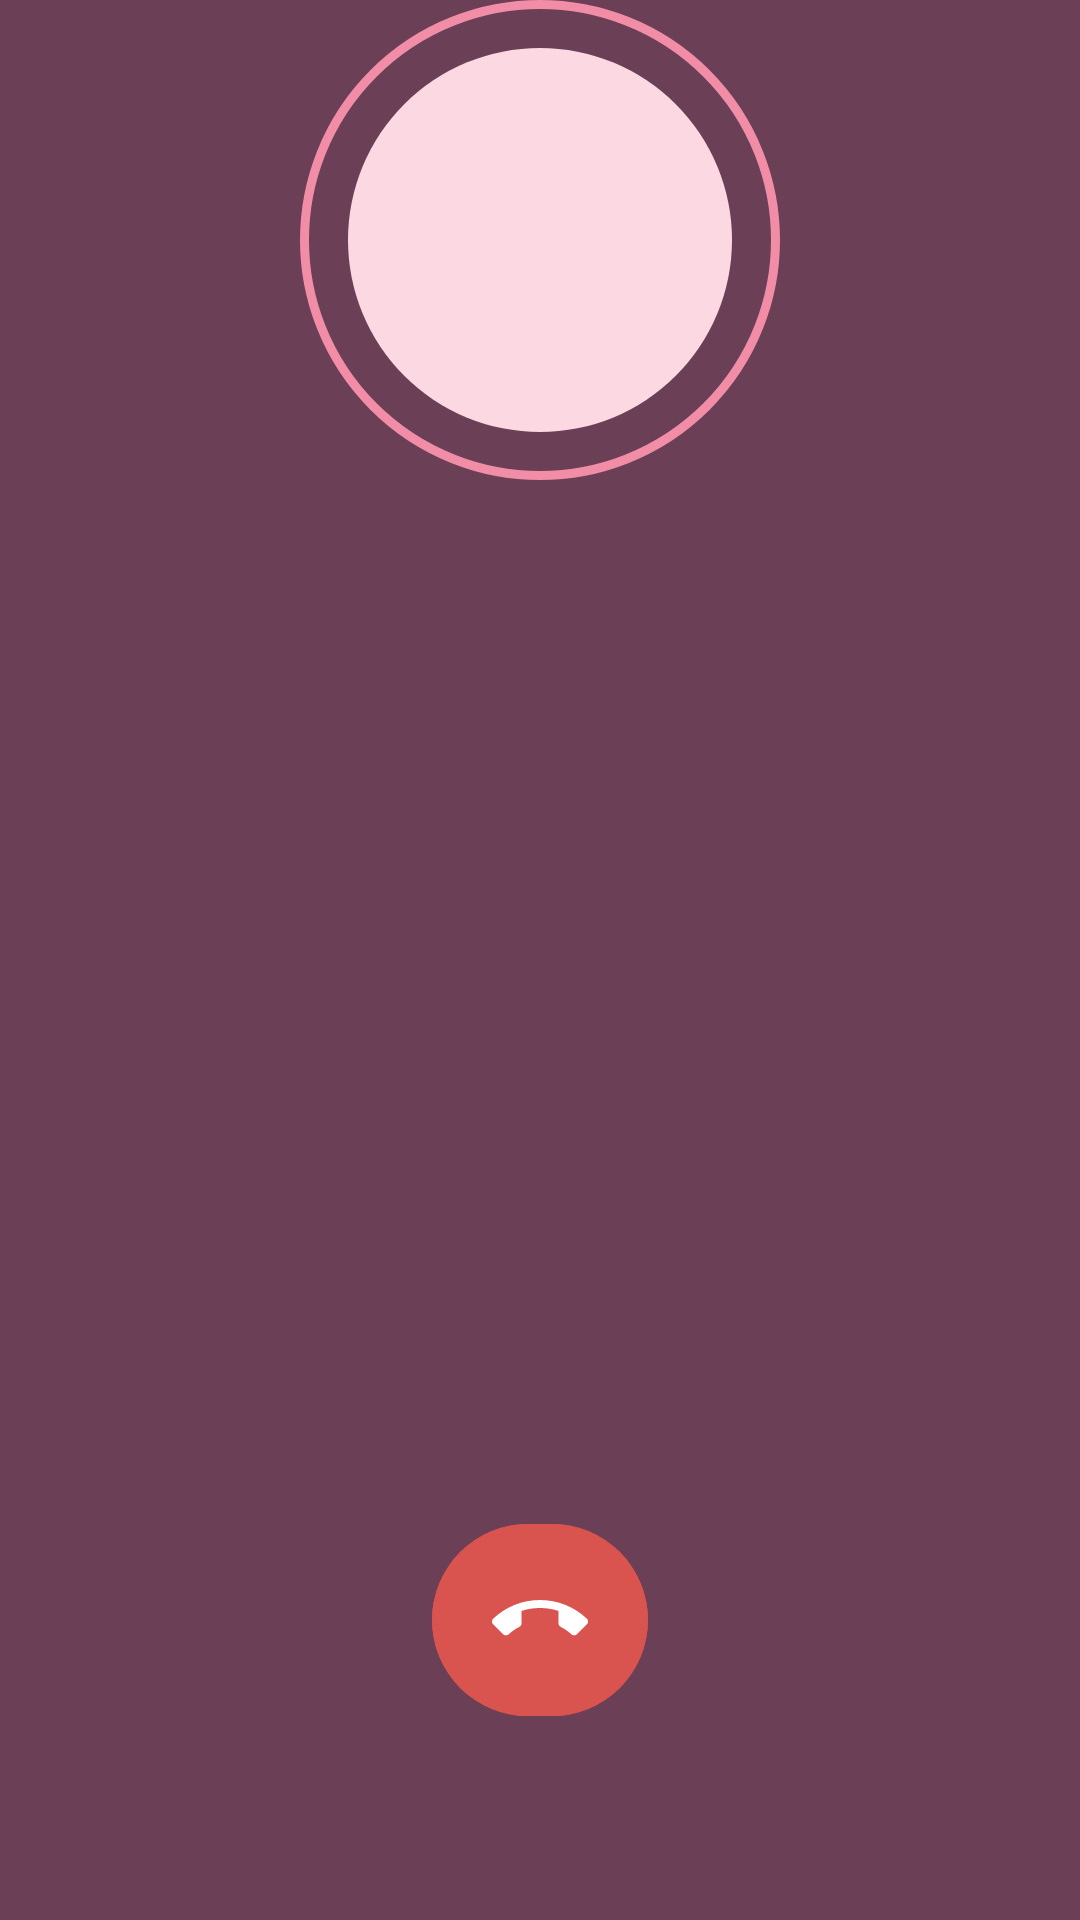

Where to tap for icons on this 1080*1920 app screen, as (x,y):
call end: (540,1620)
